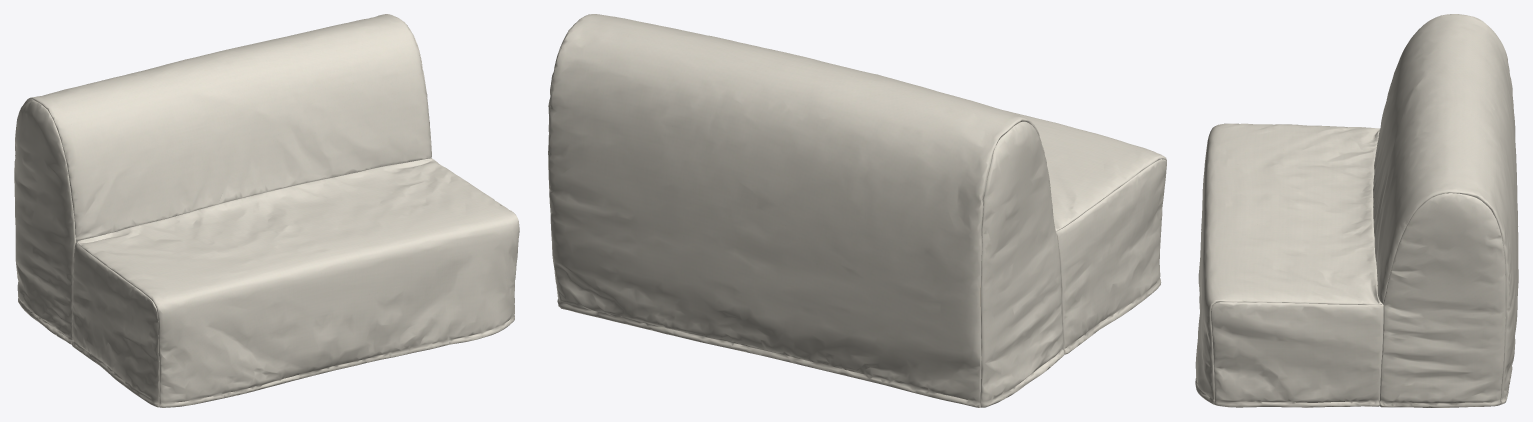
3 renders of one model, left to right at view 1: azimuth 30°, elevation 25°; view 2: azimuth 150°, elevation 25°; view 3: azimuth 270°, elevation 25°, orthographic. The views are drawn at different scales.
Visible parts, largest first — view 1: 10479675-LYCKSELE001; view 2: 10479675-LYCKSELE001; view 3: 10479675-LYCKSELE001.
Part boxes in pixels (left/top/right/bottom): 10479675-LYCKSELE001: left=14, top=14, right=519, bottom=407; 10479675-LYCKSELE001: left=548, top=14, right=1166, bottom=407; 10479675-LYCKSELE001: left=1195, top=14, right=1518, bottom=407.
Size of the model in its own units: 1.48 by 0.8632 by 1.11.
Materials: 1 (1 with a texture image).
